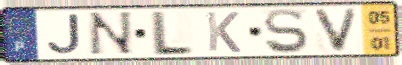J: (45, 12, 82, 57)
K: (204, 10, 243, 54)
L: (149, 9, 196, 57)
N: (86, 10, 137, 58)
S: (262, 7, 311, 56)
V: (310, 6, 362, 54)
